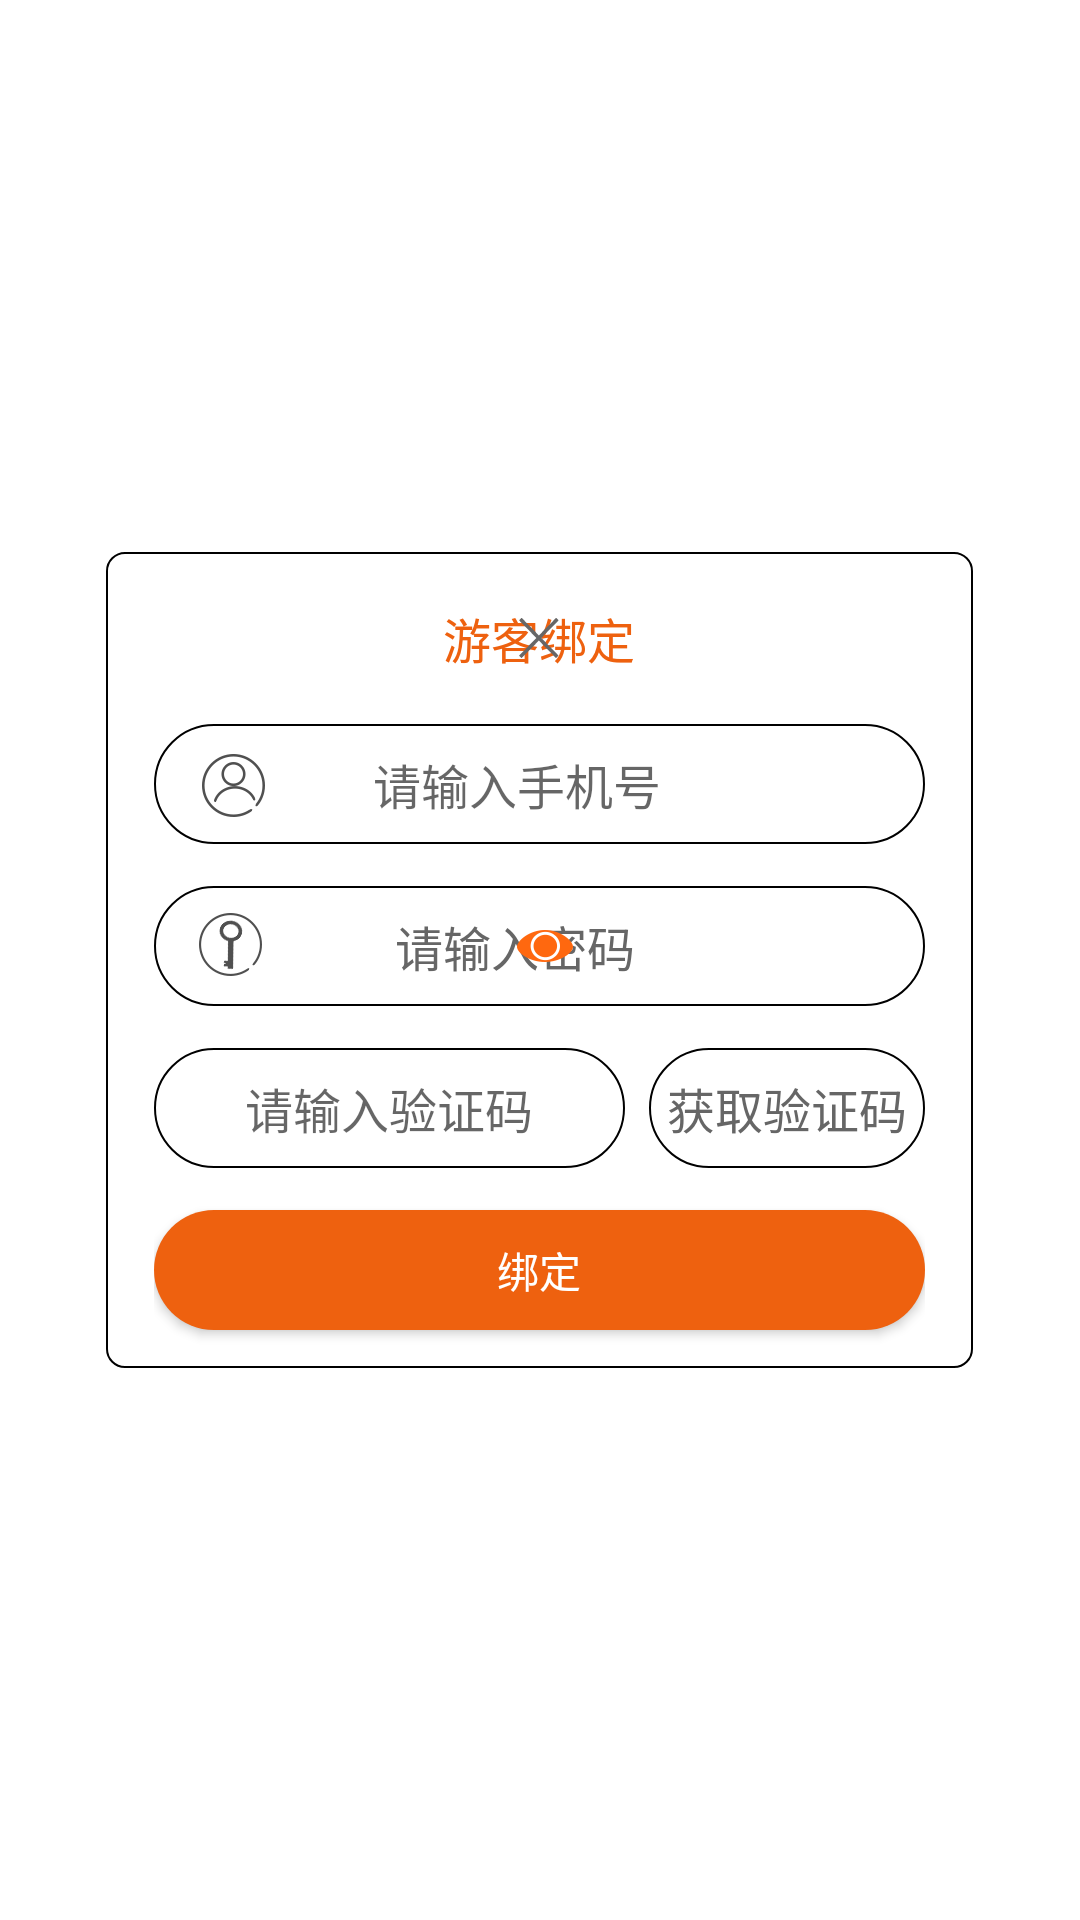

Where icons sit on this 1080*1920 app screen, as (x1, y1, x2, y2):
ui eye: (517, 930, 573, 962)
ui login password: (199, 913, 262, 976)
ui login user: (202, 754, 265, 817)
